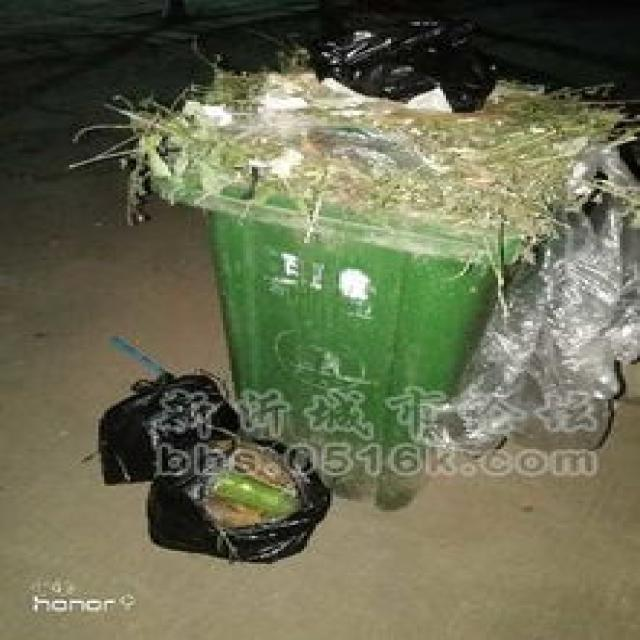garbage: (92, 371, 322, 558)
overflow: (148, 17, 608, 508)
